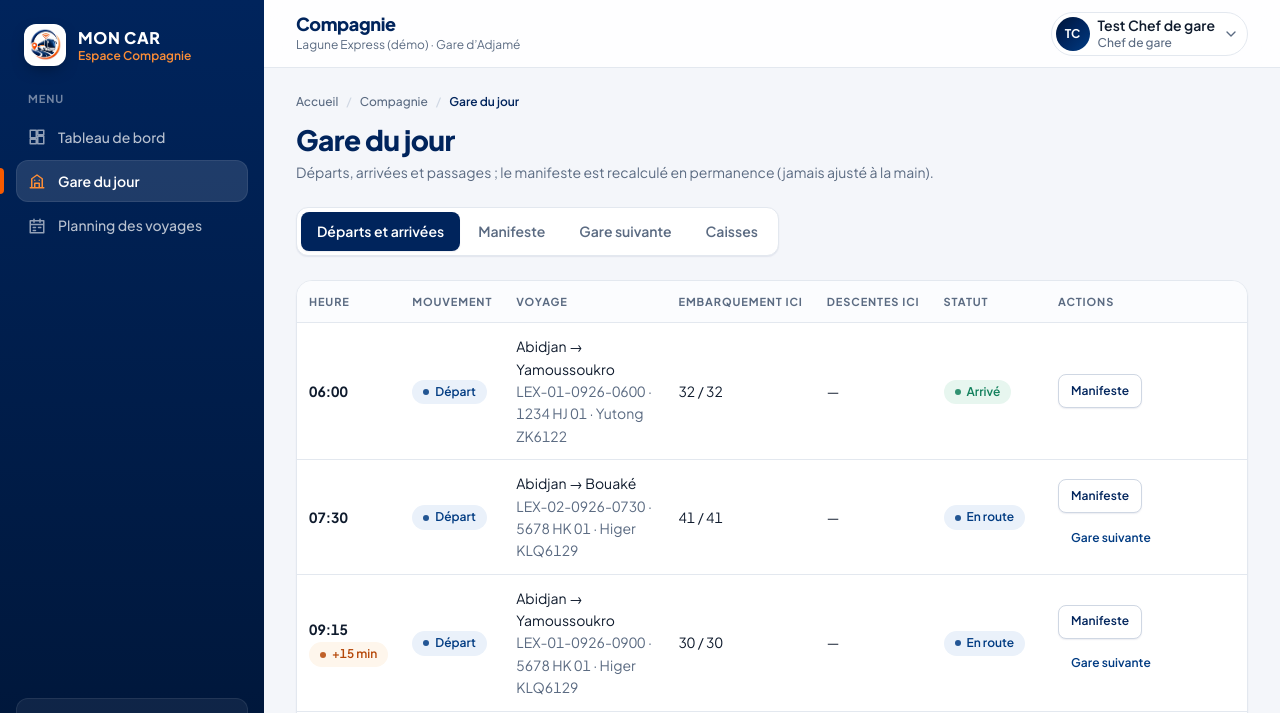
Test: Postes de gare — caisse, chef de gare, colis › le chef de gare consulte le manifeste recalculé d’un voyage
Click the button "Manifeste" in the row of "06:00".
click(1100, 391)  # box [1058, 374, 1142, 408]
(page scrolled)
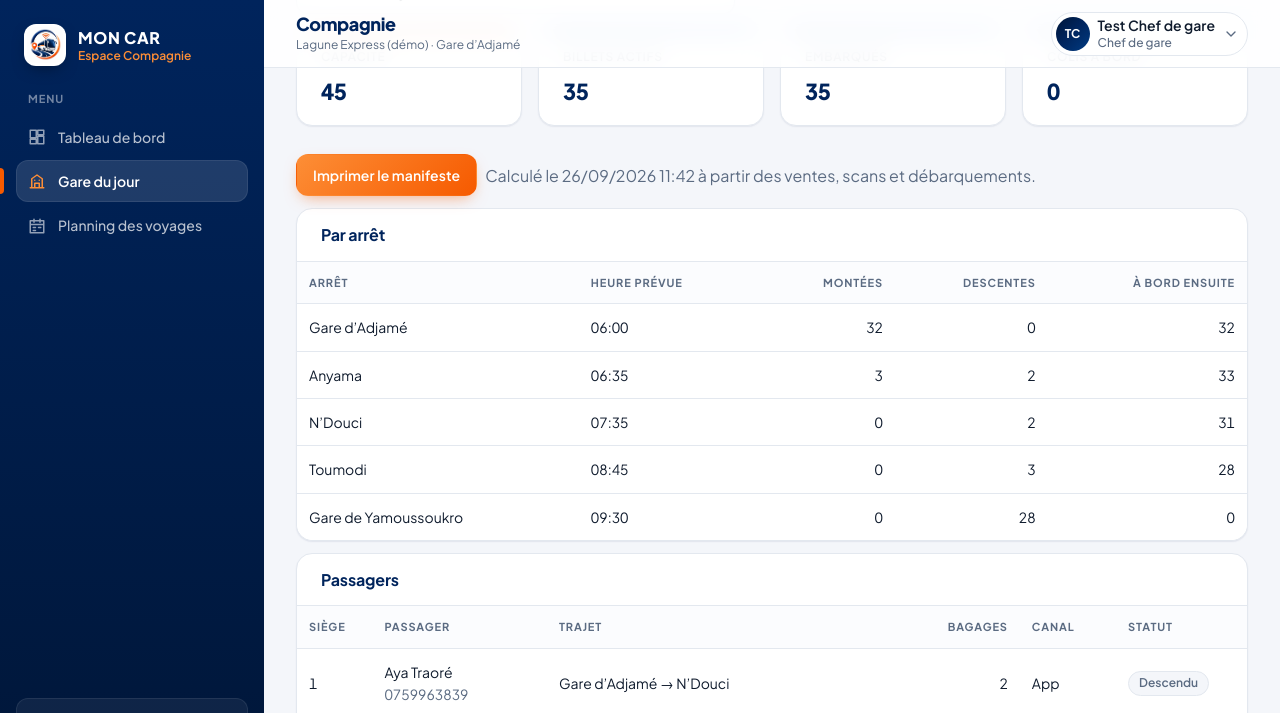
Expected: the button "Imprimer le manifeste" is shown, [296, 154, 477, 196]
Expected: the table named "Mouvements par arrêt" is shown, [297, 262, 1247, 540]
